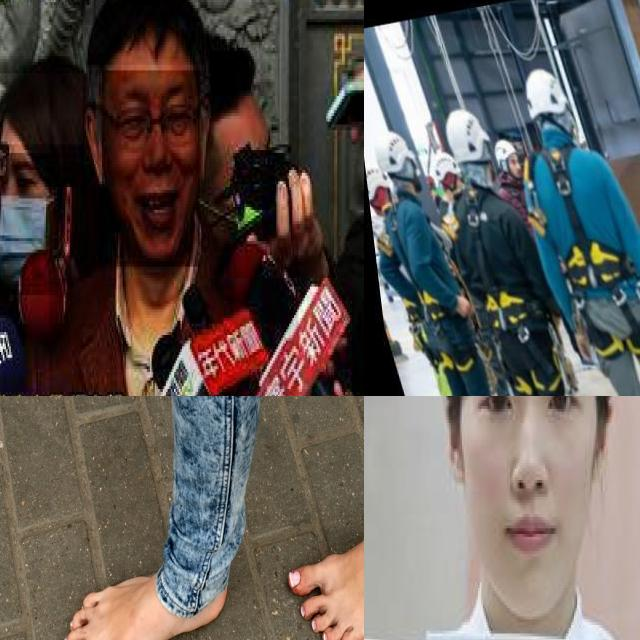Barefoots: (63, 570, 227, 640), (288, 519, 364, 640)
Harness: (544, 150, 635, 290)
No_Ear-Protection: (440, 396, 470, 484)
No_Glasses: (467, 396, 603, 451)
face_mask: (0, 153, 60, 298)
face_nomask: (457, 396, 596, 616), (102, 70, 201, 270)
glasses: (115, 96, 203, 153)
head_nohelmet: (81, 0, 209, 67), (0, 73, 84, 147)
person: (49, 0, 300, 396), (364, 396, 640, 640)
